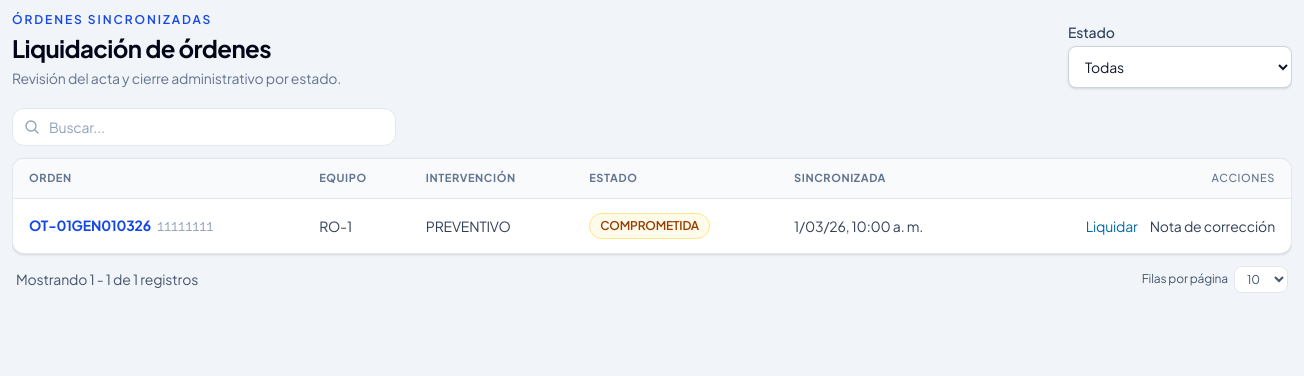
Test: LiquidacionPage › muestra el error si liquidar falla (409)
The image size is (1304, 376).
Click the button "Liquidar" at (1112, 226), box left=1086, top=216, right=1138, bottom=236
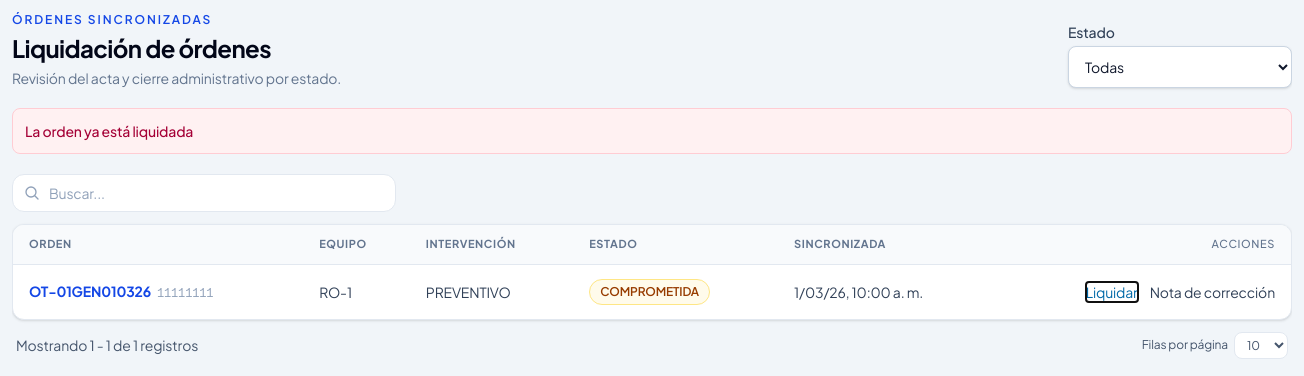
Result: the message reads "La orden ya está liquidada" at left=25, top=122, right=193, bottom=140
